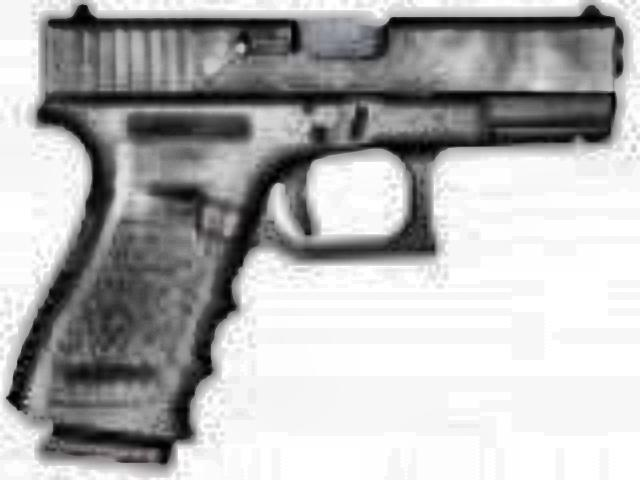pistol: (0, 0, 624, 448)
